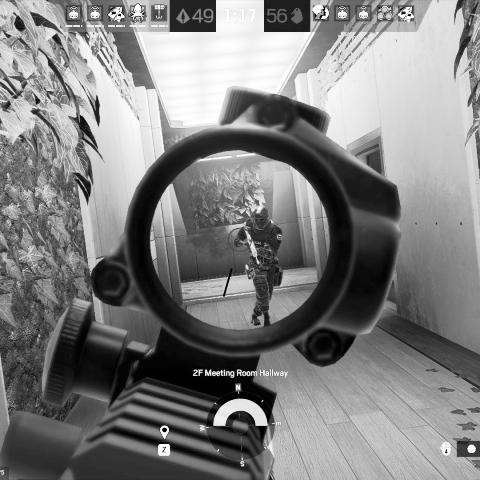Character: (233, 205, 285, 329)
Head: (252, 206, 271, 230)
